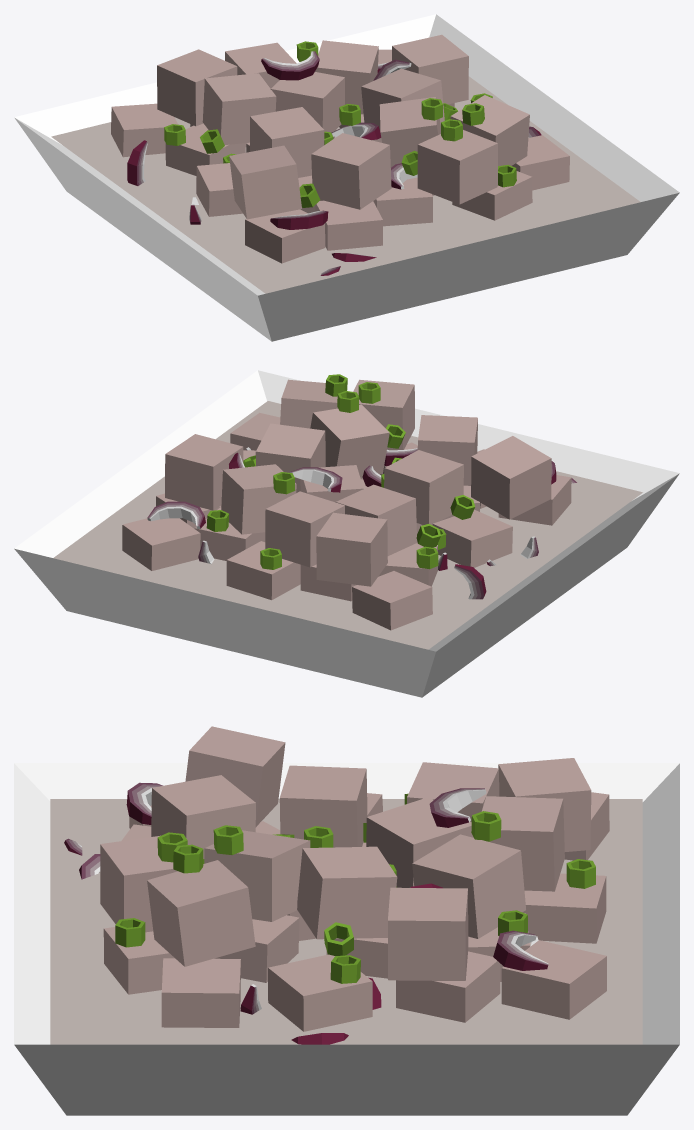
File: FINAL_Kinilaw na may Gata.fbx
The picture shows the model from 3 angles, top to bottom: view 1: azimuth 30°, elevation 25°; view 2: azimuth 150°, elevation 25°; view 3: azimuth 270°, elevation 25°; orthographic projection. The views are drawn at different scales.
Parts seen in each view (by area): view 1: Kinilaw na may Gata; view 2: Kinilaw na may Gata; view 3: Kinilaw na may Gata.
Part boxes in pixels (bbox=[...]): Kinilaw na may Gata: bbox=[14, 14, 679, 341]; Kinilaw na may Gata: bbox=[14, 370, 679, 697]; Kinilaw na may Gata: bbox=[14, 726, 679, 1115].
Size of the model in its own units: 94.43 by 30.38 by 94.43.
